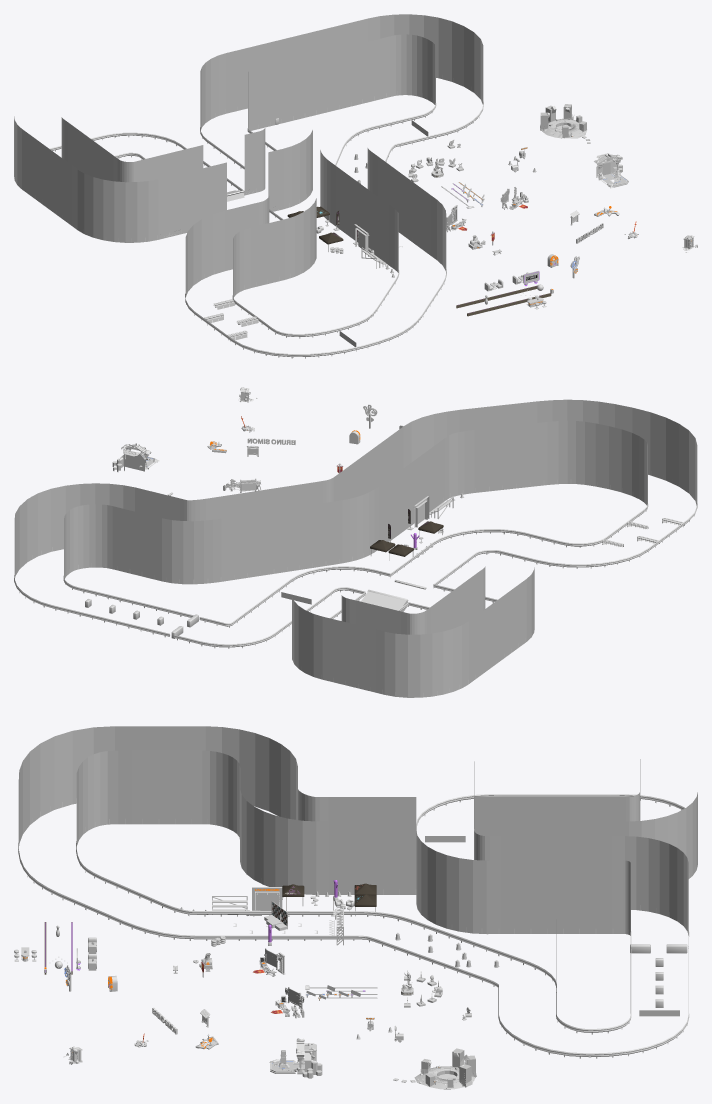
File: areas.glb
3 views of the same model, one above another, from view 1: azimuth 30°, elevation 25°; view 2: azimuth 150°, elevation 25°; view 3: azimuth 270°, elevation 25° (orthographic). The views are drawn at different scales.
Visible parts, largest first — view 1: trimesh, refRailsPhysicalFixed, Cube.089, refBumpersPhysicalKinematicPositionBased, blocks; view 2: trimesh, refRailsPhysicalFixed, Cube.089, jump, Cube.088; view 3: trimesh, refRailsPhysicalFixed, Cube.088, Cube.089, Cube.173.
Part boxes in pixels (x1,y1,x2,y2): trimesh: (14,14,483,297); refRailsPhysicalFixed: (35,75,483,358); Cube.089: (594,153,628,188); refBumpersPhysicalKinematicPositionBased: (456,285,551,316); blocks: (204,299,258,341); trimesh: (14,399,697,697); refRailsPhysicalFixed: (14,471,697,697); Cube.089: (112,443,159,471); jump: (361,580,426,611); Cube.088: (370,496,453,560); trimesh: (18,726,697,1013); refRailsPhysicalFixed: (18,794,695,1058); Cube.088: (211,887,375,946); Cube.089: (269,1038,322,1078); Cube.173: (393,1051,476,1088).
Size of the model in its own units: 169 by 22.1 by 169.
25 materials, 11 textured.
